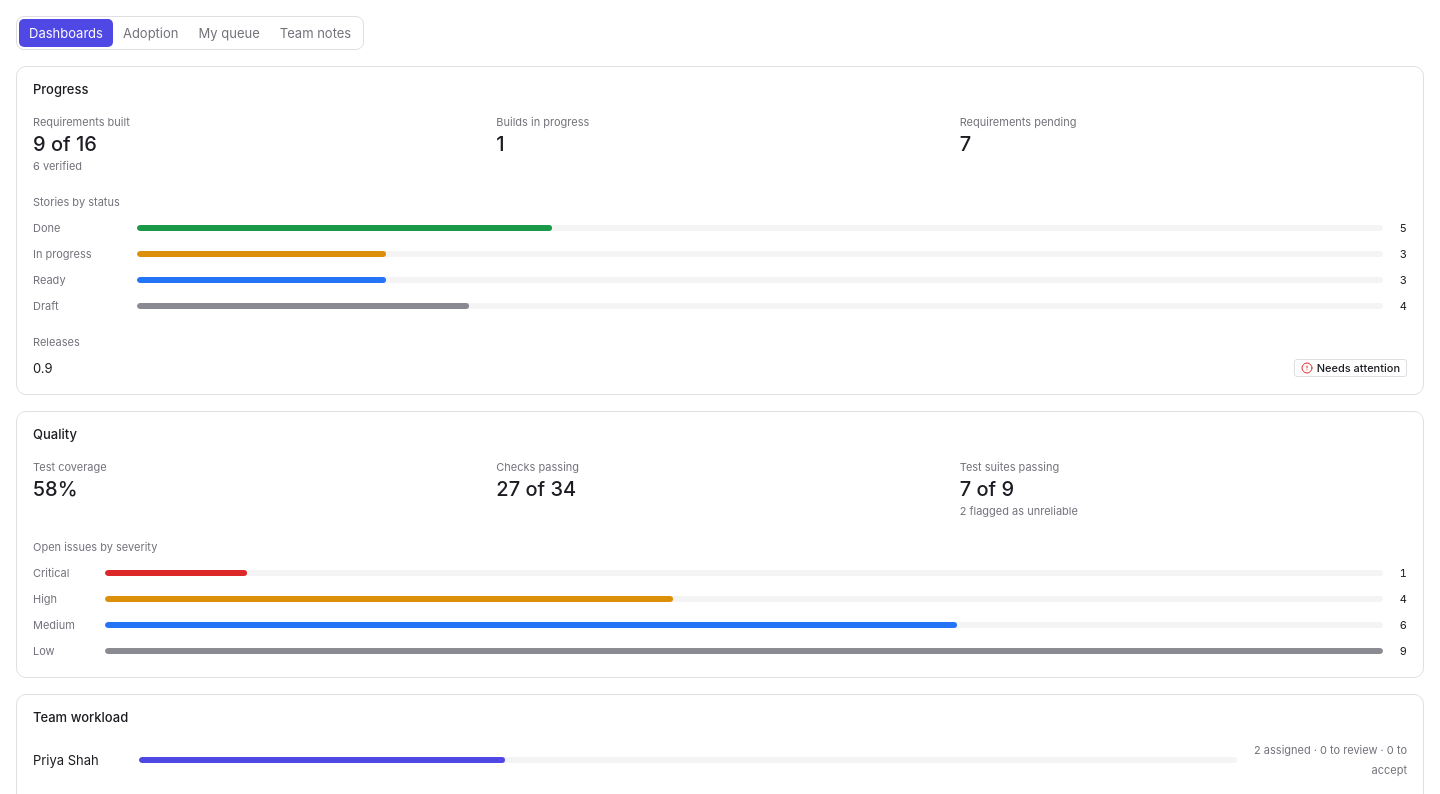
Test: InsightsSection › Adoption tab shows a burndown for a brownfield project
Step 1. Click the tab "Adoption" → (151, 33), box [113,19,188,47]
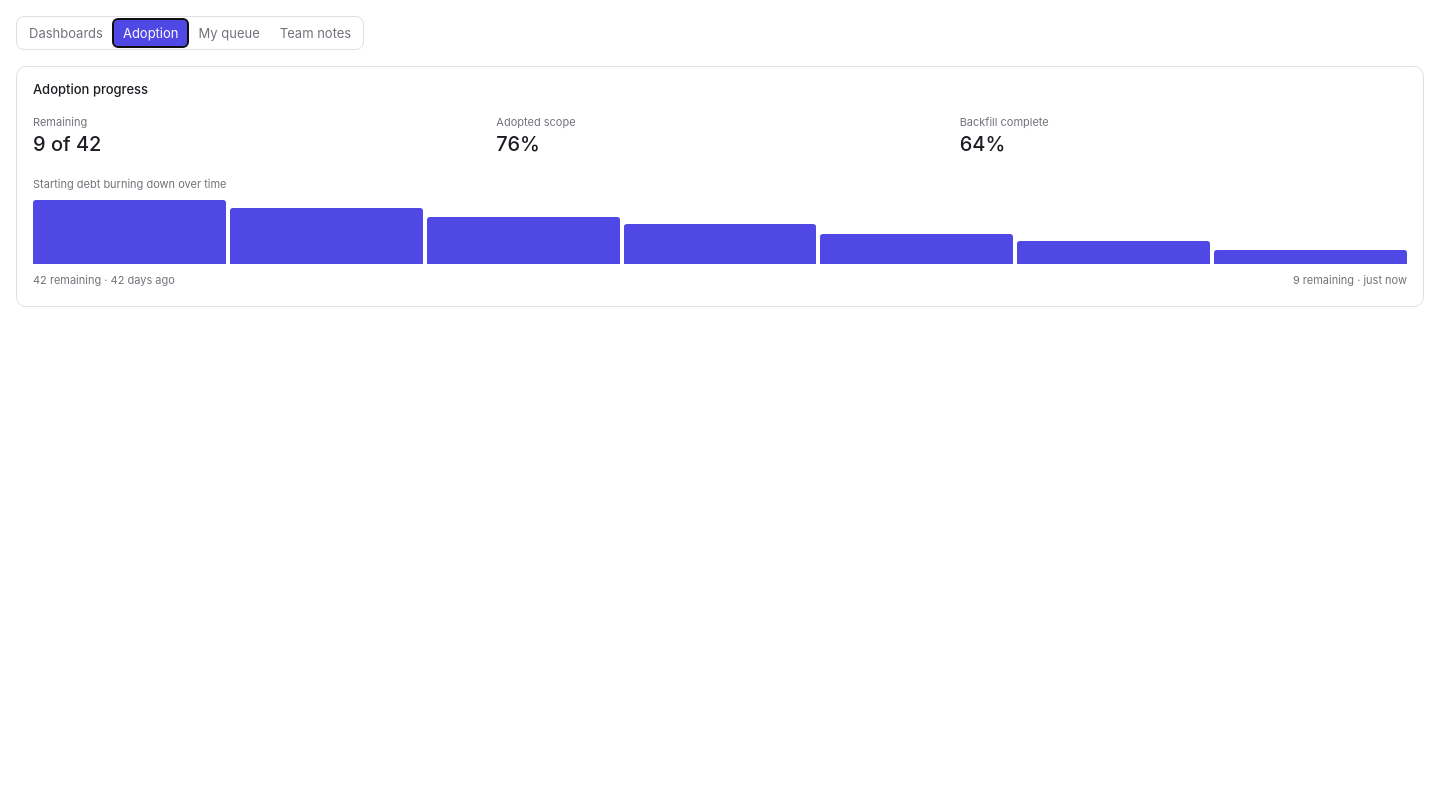
Expected: the text "9 of 42" is shown, [33,132,101,156]
Expected: the text "76%" is shown, [496,132,540,156]
Expected: the text "42 remaining · 42 days ago" is shown, [33,270,175,290]
